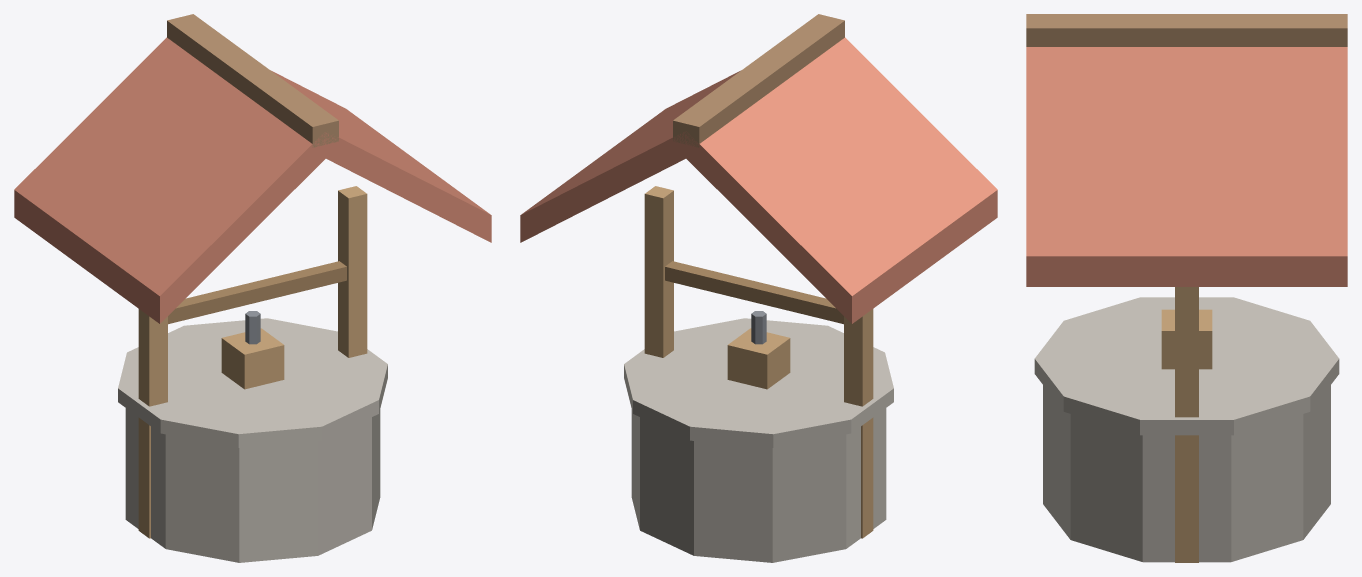
Rendered from well.glb.
3 views of the same model, side by side, from view 1: azimuth 30°, elevation 25°; view 2: azimuth 150°, elevation 25°; view 3: azimuth 270°, elevation 25° (orthographic). The views are drawn at different scales.
Parts seen in each view (by area): view 1: Player; view 2: Player; view 3: Player.
Boxes of the visible parts, left/top/right/bottom form: Player: left=14, top=14, right=491, bottom=562; Player: left=520, top=14, right=997, bottom=562; Player: left=1026, top=14, right=1347, bottom=562.
Bounding box in the file's own units: 2.5 × 3.15 × 1.9.
